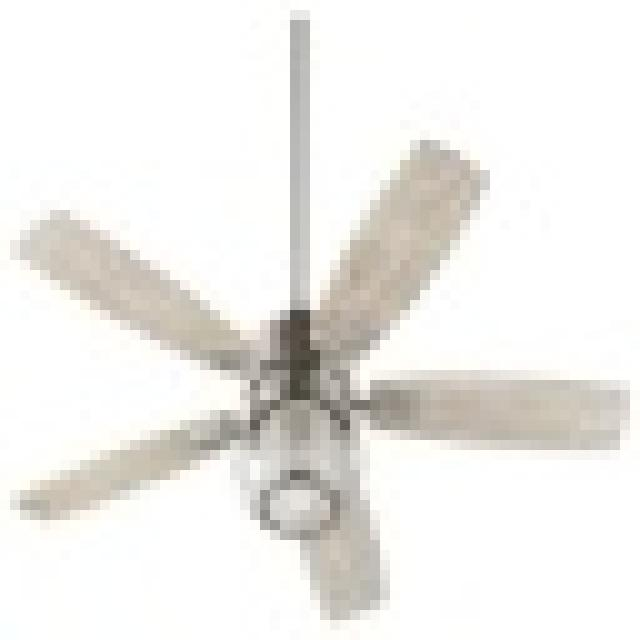Bulb: (10, 160, 640, 590)
